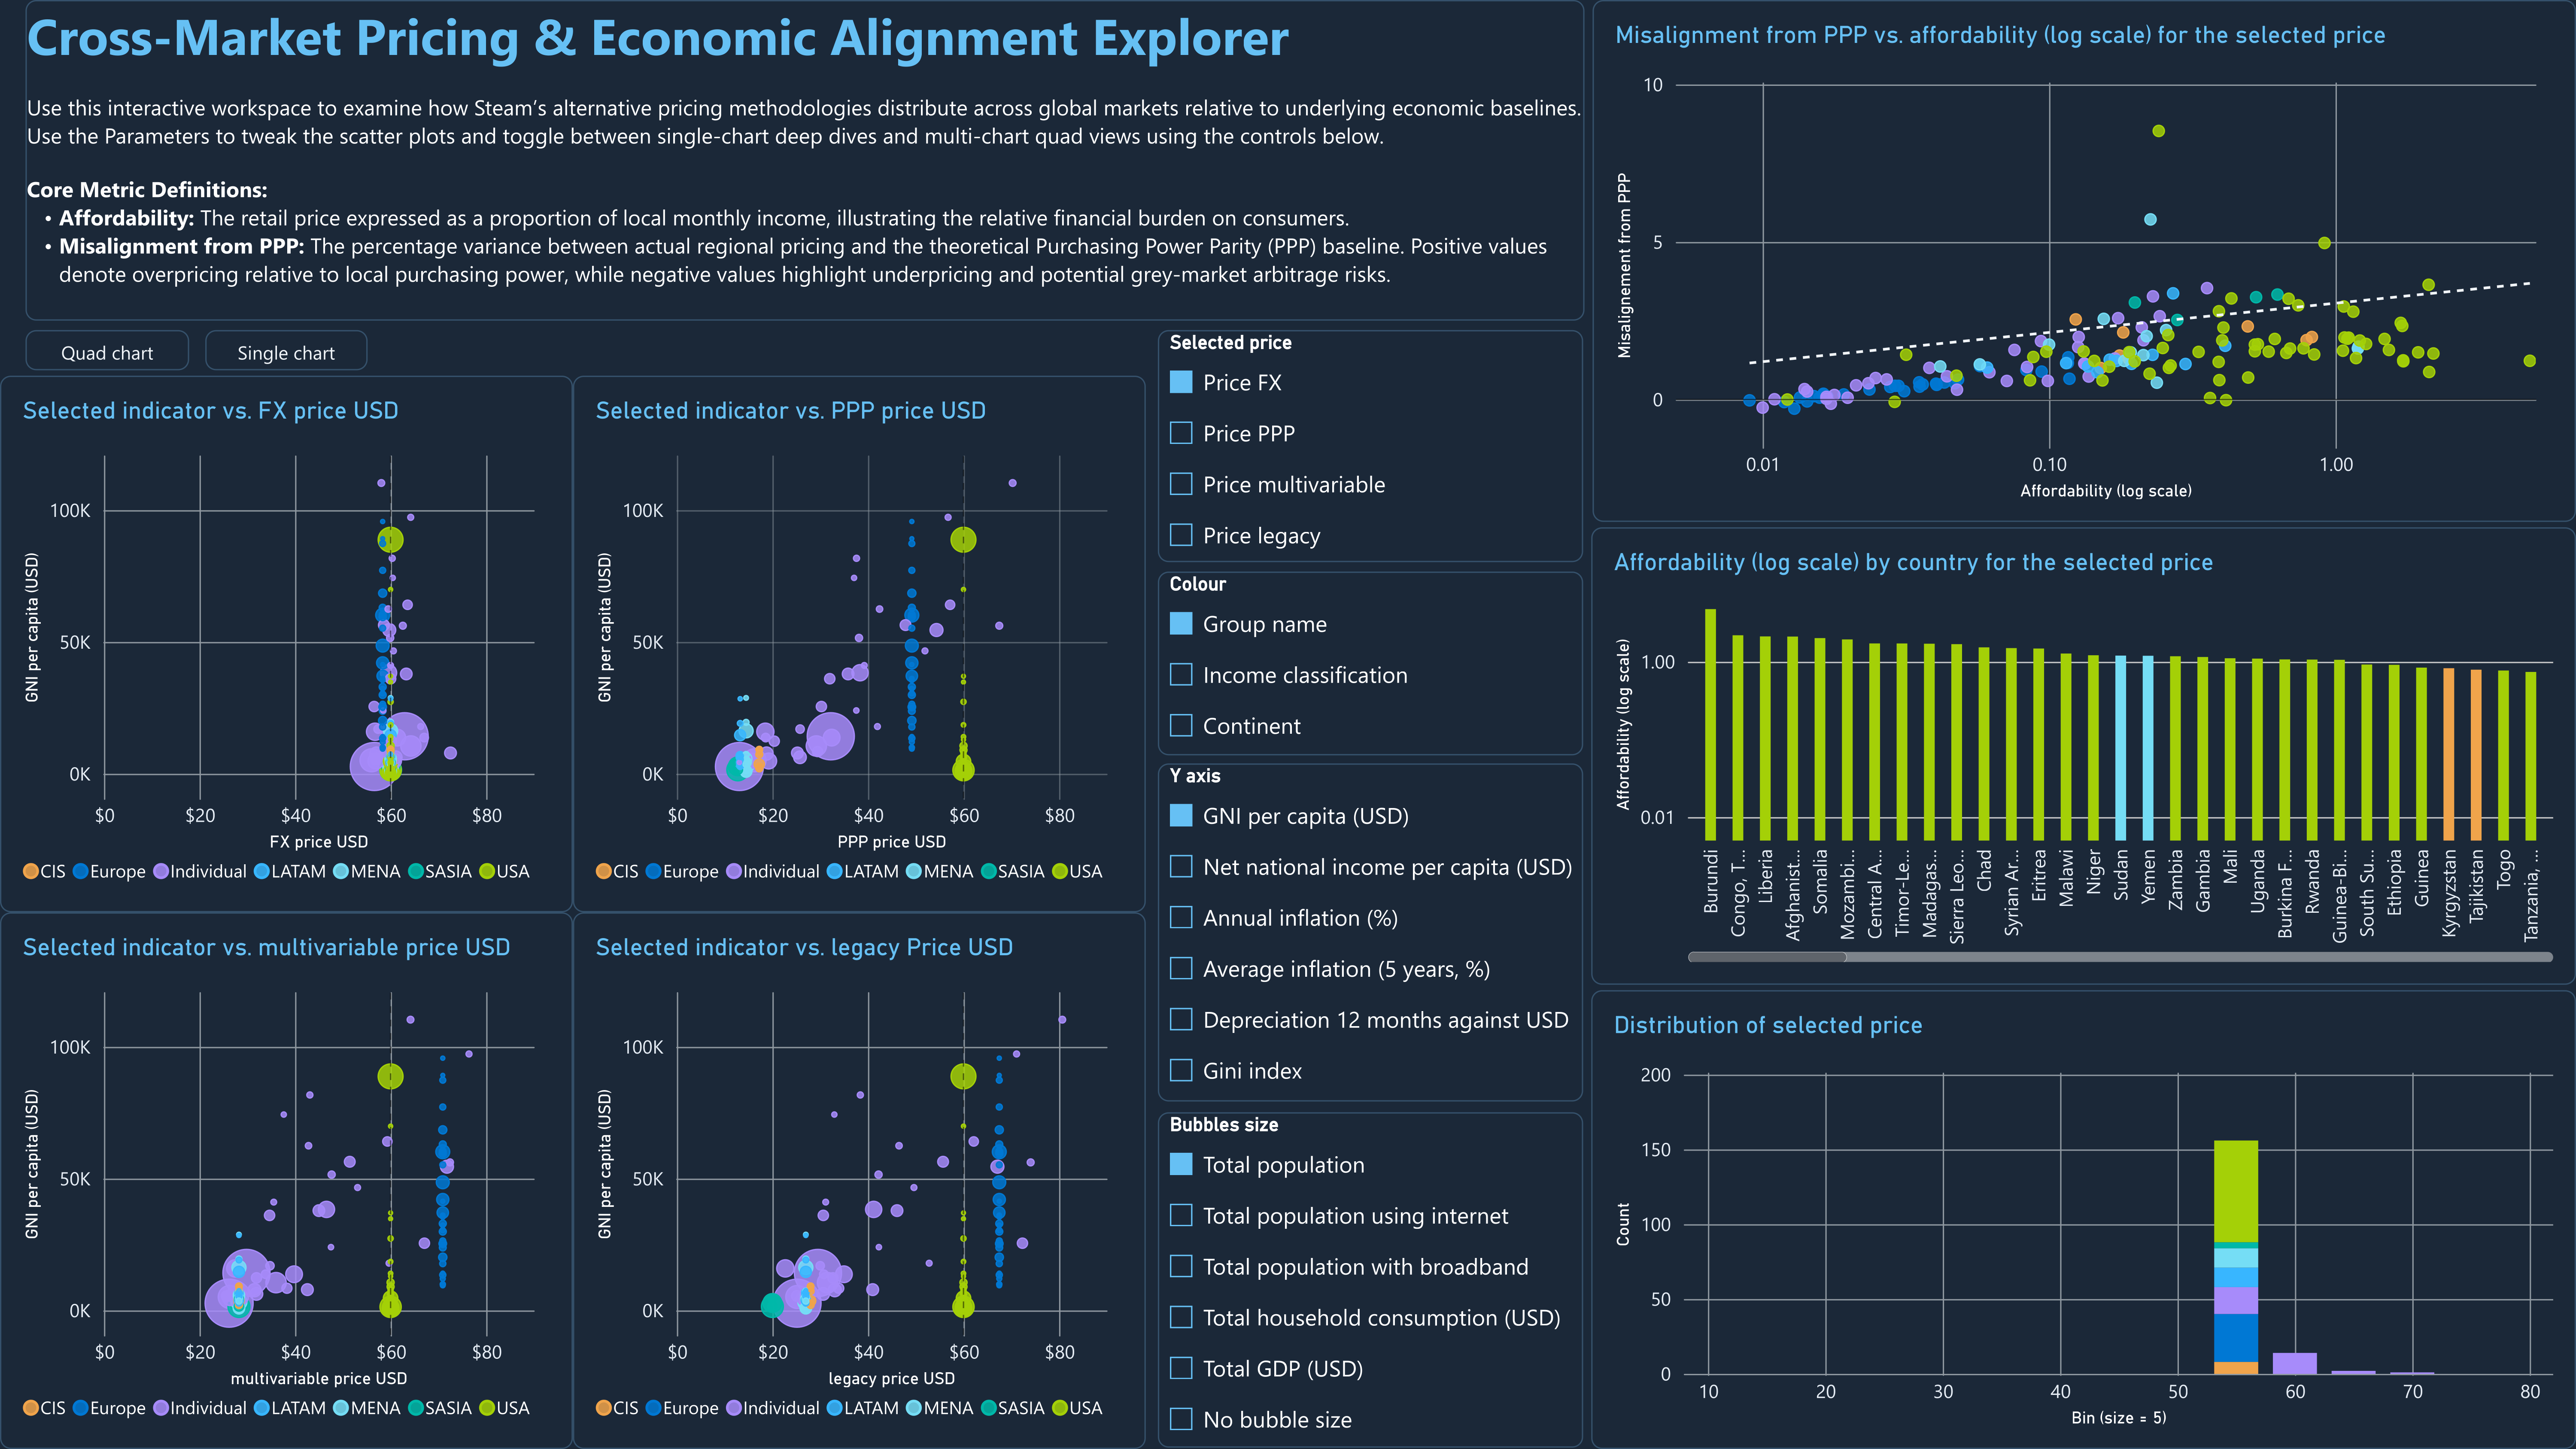

What the dashboard file says about the page in this screenshot:
{"tool":"powerbi","page":{"name":"Recommended prices","canvas":[1920,1080],"ordinal":1},"visuals":[{"type":"slicer","fields":{"Values":["Price Scatter Chart Parameter.Paramètre"]},"box":[862.9,569.3,317.1,252.1],"z":0},{"type":"scatterChart","title":"Selected indicator vs. multivariable price USD","fields":{"Series":["steam_regional_pricing_dataset.group_name"],"Size":["steam_regional_pricing_dataset.Total Population"],"X":["steam_regional_pricing_dataset.price_steam_multivariable_USD"],"Y":["steam_regional_pricing_dataset.WB_GNI_per_capita"]},"box":[0,680,427.1,400],"z":2000},{"type":"slicer","fields":{"Values":["Paramètre.Paramètre"]},"box":[862.9,425.7,317.1,137.1],"z":3000},{"type":"scatterChart","title":"Selected indicator vs. PPP price USD","fields":{"Series":["steam_regional_pricing_dataset.group_name"],"Size":["steam_regional_pricing_dataset.Total Population"],"X":["steam_regional_pricing_dataset.price_steam_PPP_USD"],"Y":["steam_regional_pricing_dataset.WB_GNI_per_capita"]},"box":[427.1,280,427.1,400],"z":4000},{"type":"scatterChart","title":"Selected indicator vs. FX price USD","fields":{"Series":["steam_regional_pricing_dataset.group_name"],"Size":["steam_regional_pricing_dataset.Total Population"],"X":["steam_regional_pricing_dataset.price_steam_FX_USD"],"Y":["steam_regional_pricing_dataset.WB_GNI_per_capita"]},"box":[0,280,427.1,400],"z":5000},{"type":"slicer","fields":{"Values":["Paramètre.Paramètre"]},"box":[862.9,245.7,317.1,173.6],"z":6000},{"type":"slicer","fields":{"Values":["Size Bubbles.Size Bubbles"]},"box":[862.9,828.6,317.1,250],"z":7000},{"type":"scatterChart","title":"Selected indicator vs. legacy Price USD","fields":{"Series":["steam_regional_pricing_dataset.group_name"],"Size":["steam_regional_pricing_dataset.Total Population"],"X":["steam_regional_pricing_dataset.price_steam_legacy_USD"],"Y":["steam_regional_pricing_dataset.WB_GNI_per_capita"]},"box":[427.1,680,427.1,400],"z":8000},{"type":"actionButton","box":[152.9,245.7,121.4,30],"z":9000},{"type":"actionButton","box":[18.6,245.7,122.9,30],"z":10000},{"type":"lineStackedColumnComboChart","title":"Distribution of selected price","fields":{"Category":["Histogram Bins.Value"],"Series":["steam_regional_pricing_dataset.group_name"],"Y":["steam_regional_pricing_dataset.Histogram Count"]},"box":[1185.7,737.9,734.3,342.1],"z":11000},{"type":"columnChart","title":"Affordability (log scale) by country for the selected price","fields":{"Category":["steam_regional_pricing_dataset.country_name"],"Series":["steam_regional_pricing_dataset.group_name"],"Y":["steam_regional_pricing_dataset.Selected Affordability"]},"box":[1185.7,392.9,734.3,341.4],"z":12000},{"type":"scatterChart","title":"Misalignment from PPP vs. affordability (log scale) for the selected price","fields":{"Category":["steam_regional_pricing_dataset.country_name"],"Series":["steam_regional_pricing_dataset.group_name"],"X":["steam_regional_pricing_dataset.Selected Affordability"],"Y":["steam_regional_pricing_dataset.Selected Misalignment"]},"box":[1187.1,0,732.9,388.6],"z":13000},{"type":"textbox","box":[18.6,0,1162.9,239.3],"z":16000}]}

Visuals, with their boxes in screenshot pixels (x1, y1, x2, y2), scaled from the page's 1920x1080 canvas onto the 2576x1449 screenshot:
slicer - Price Scatter Chart Parameter.Paramètre: [1158, 764, 1583, 1102]
"Selected indicator vs. multivariable price USD" scatterChart: [0, 912, 573, 1449]
slicer - Paramètre.Paramètre: [1158, 571, 1583, 755]
"Selected indicator vs. PPP price USD" scatterChart: [573, 376, 1146, 912]
"Selected indicator vs. FX price USD" scatterChart: [0, 376, 573, 912]
slicer - Paramètre.Paramètre: [1158, 330, 1583, 562]
slicer - Size Bubbles.Size Bubbles: [1158, 1112, 1583, 1447]
"Selected indicator vs. legacy Price USD" scatterChart: [573, 912, 1146, 1449]
actionButton: [205, 330, 368, 370]
actionButton: [25, 330, 190, 370]
"Distribution of selected price" lineStackedColumnComboChart: [1591, 990, 2576, 1449]
"Affordability (log scale) by country for the selected price" columnChart: [1591, 527, 2576, 985]
"Misalignment from PPP vs. affordability (log scale) for the selected price" scatterChart: [1593, 0, 2576, 521]
textbox: [25, 0, 1585, 321]
